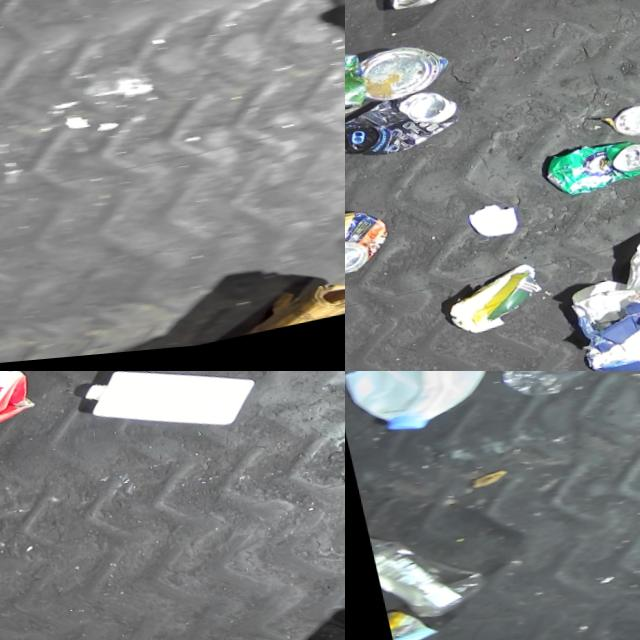can: (345, 90, 457, 169), (532, 143, 640, 209), (350, 44, 448, 110), (345, 209, 385, 285), (376, 0, 462, 19), (602, 110, 640, 149), (345, 56, 365, 128)
milk_jug: (67, 371, 255, 456), (345, 371, 509, 444)
plastic_bottle: (352, 495, 479, 629), (486, 371, 640, 404)
